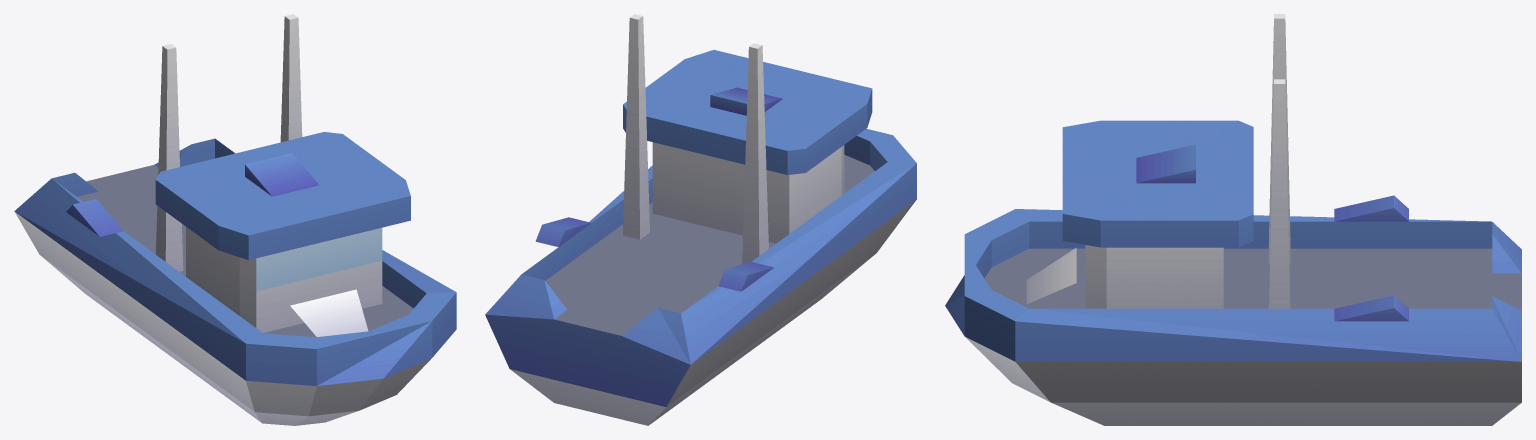
File: boat-fish.glb
The picture shows the model from 3 angles, left to right: view 1: azimuth 30°, elevation 25°; view 2: azimuth 150°, elevation 25°; view 3: azimuth 270°, elevation 25°; orthographic projection. The views are drawn at different scales.
Parts seen in each view (by area): view 1: boat-fishing-small; view 2: boat-fishing-small; view 3: boat-fishing-small.
Part boxes in pixels (x1,y1,x2,y2): boat-fishing-small: [14, 14, 456, 425]; boat-fishing-small: [485, 14, 916, 425]; boat-fishing-small: [945, 14, 1521, 425].
Bounding box in the file's own units: 1.78 × 2.6 × 3.87.
1 material, 1 textured.
